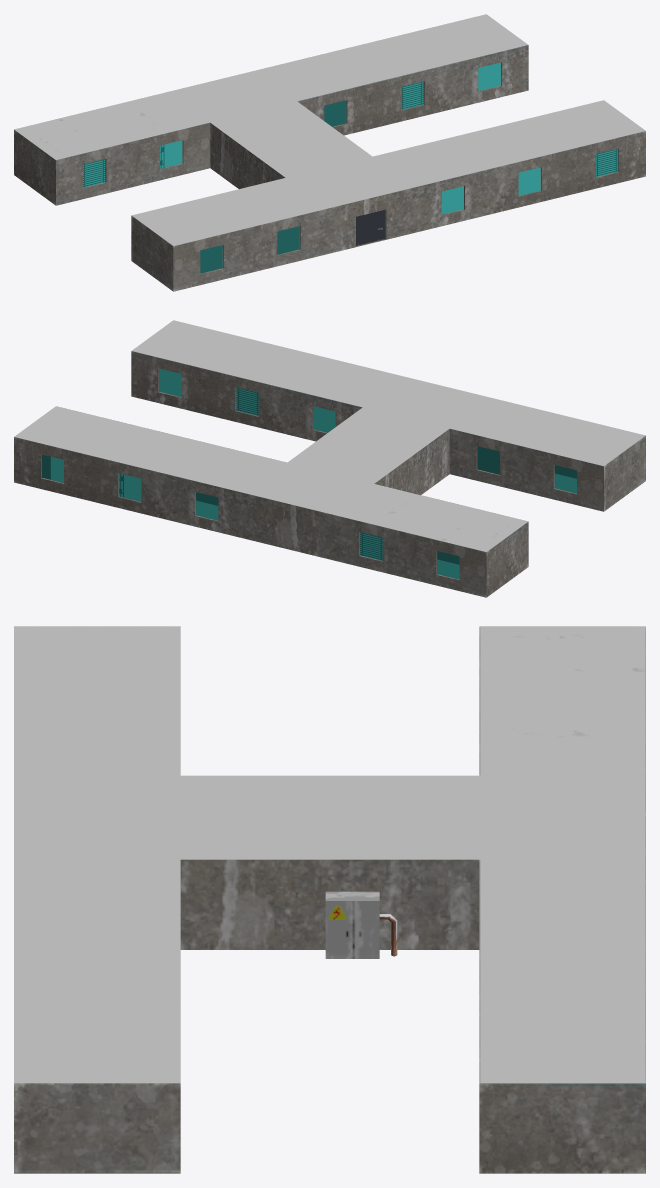
Rendered from laboratory.glb.
The picture shows the model from 3 angles, top to bottom: view 1: azimuth 30°, elevation 25°; view 2: azimuth 150°, elevation 25°; view 3: azimuth 270°, elevation 25°; orthographic projection. The views are drawn at different scales.
Visible parts, largest first — view 1: Box001; view 2: Box001; view 3: Box001.
Boxes of the visible parts, bbox=[...] form: Box001: bbox=[14, 14, 645, 291]; Box001: bbox=[14, 320, 645, 597]; Box001: bbox=[14, 626, 645, 1173].
Size of the model in its own units: 5.52 by 0.5123 by 3.22.
Materials: 1 (1 with a texture image).
